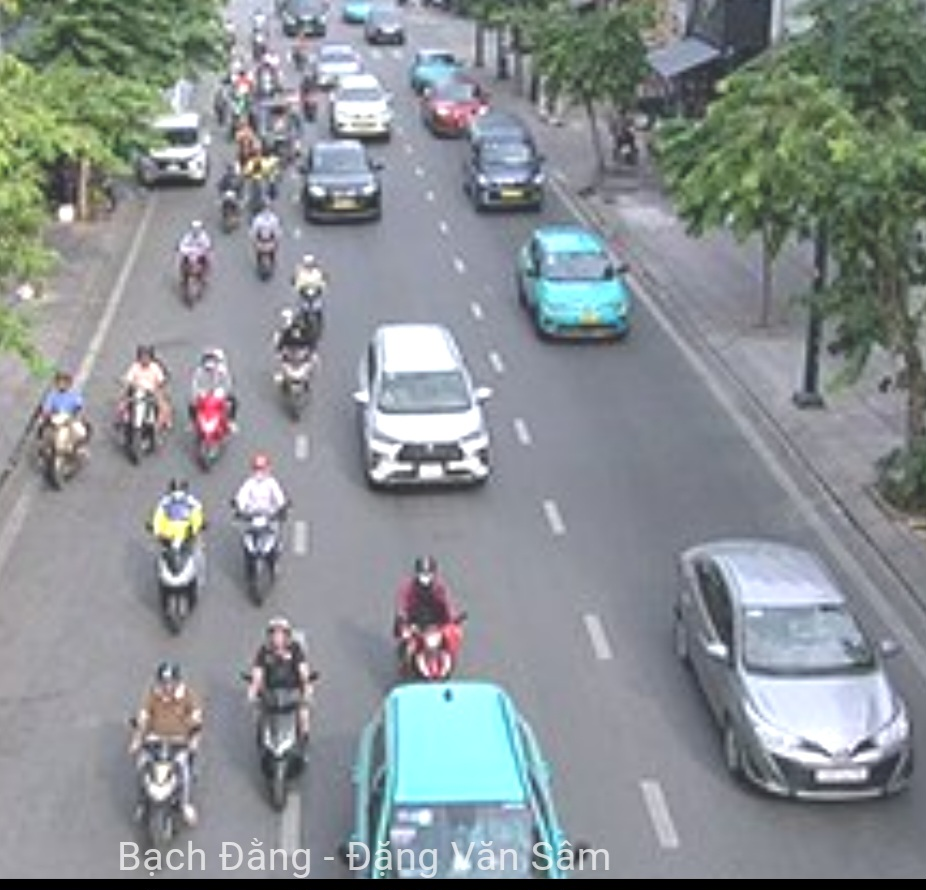car: (670, 535, 916, 805), (346, 689, 582, 877), (357, 322, 497, 492), (515, 220, 637, 345), (459, 117, 549, 217), (304, 138, 382, 227), (135, 111, 215, 188), (330, 75, 390, 140), (427, 79, 492, 132), (408, 47, 465, 92), (311, 44, 368, 83)
